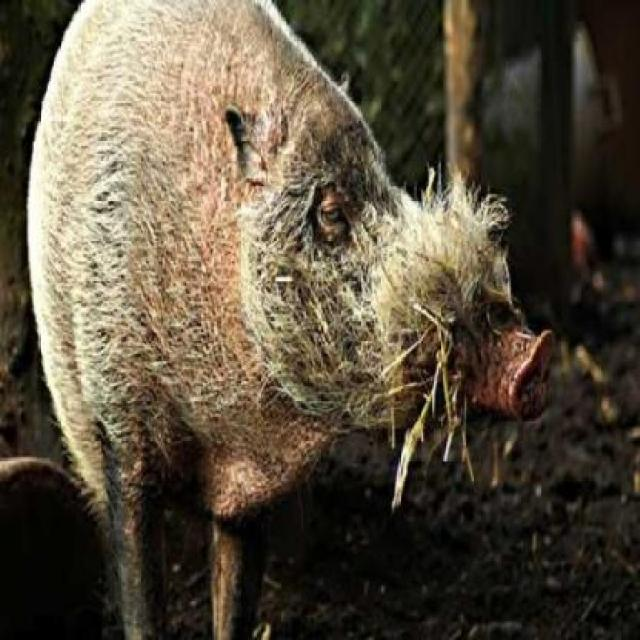pig: (40, 0, 572, 607)
